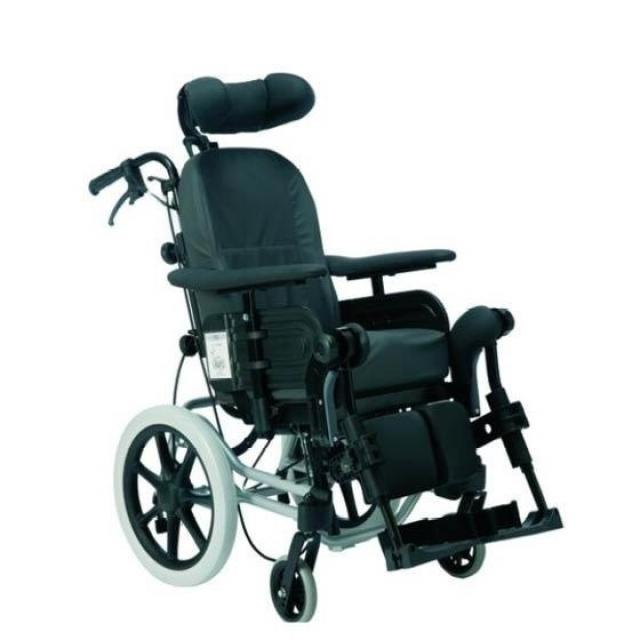wheelchair: (85, 69, 580, 624)
